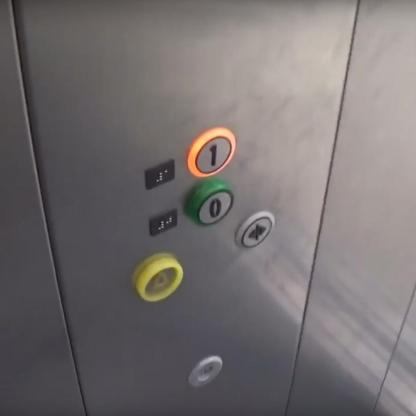0: (182, 178, 237, 225)
1: (183, 126, 241, 177)
alarm: (132, 254, 187, 301)
keyhole: (184, 353, 224, 388)
open: (234, 209, 278, 251)
